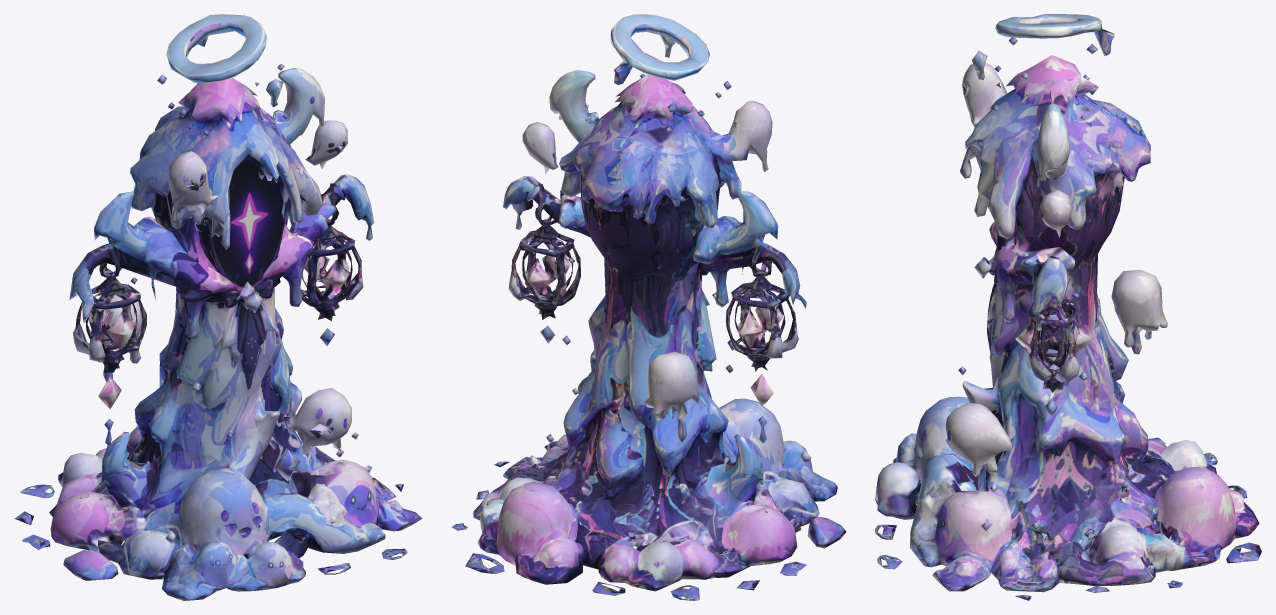
Rendered from GhostLantern.fbx.
3 views of the same model, side by side, from view 1: azimuth 30°, elevation 25°; view 2: azimuth 150°, elevation 25°; view 3: azimuth 270°, elevation 25° (orthographic). The views are drawn at different scales.
Visible parts, largest first — view 1: texture_mapping; view 2: texture_mapping; view 3: texture_mapping.
Boxes of the visible parts, x1,y1,x2,y2 form: texture_mapping: [14, 14, 422, 600]; texture_mapping: [451, 14, 846, 600]; texture_mapping: [875, 14, 1261, 600].
Size of the model in its own units: 0.7283 by 0.691 by 1.
Materials: 1 (1 with a texture image).
